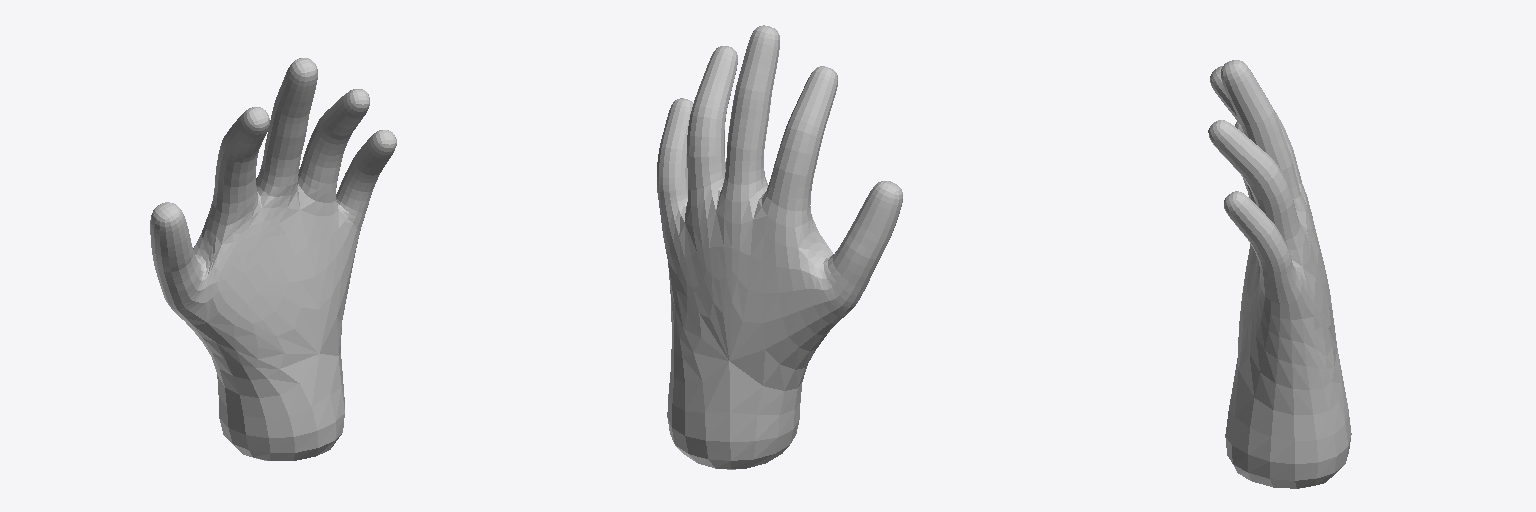
The model's file is handanimatsion6.obj.
3 renders of one model, left to right at view 1: azimuth 30°, elevation 25°; view 2: azimuth 150°, elevation 25°; view 3: azimuth 270°, elevation 25°, orthographic.
Parts seen in each view (by area): view 1: Cube; view 2: Cube; view 3: Cube.
Boxes of the visible parts, x1,y1,x2,y2 form: Cube: [150, 58, 396, 460]; Cube: [657, 25, 902, 469]; Cube: [1208, 60, 1351, 488].
Bounding box in the file's own units: 3.8 × 6.38 × 2.